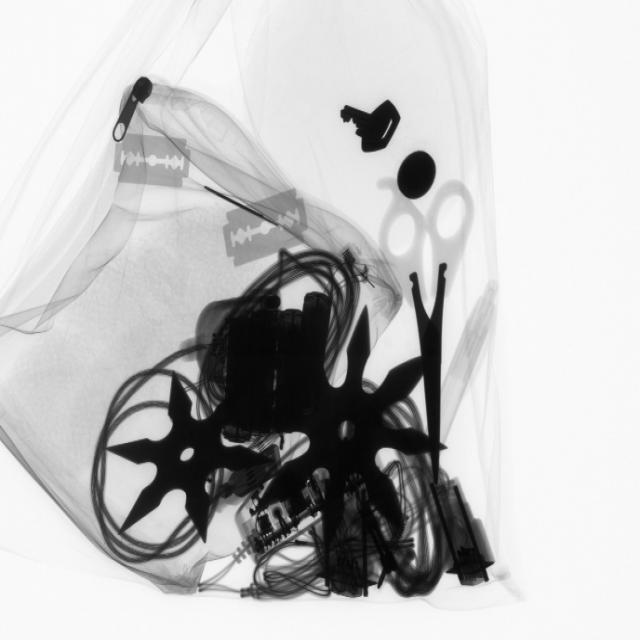BLADE: (219, 184, 319, 275), (107, 125, 200, 198)
SHURIKEN: (259, 310, 434, 549), (109, 375, 266, 542)
